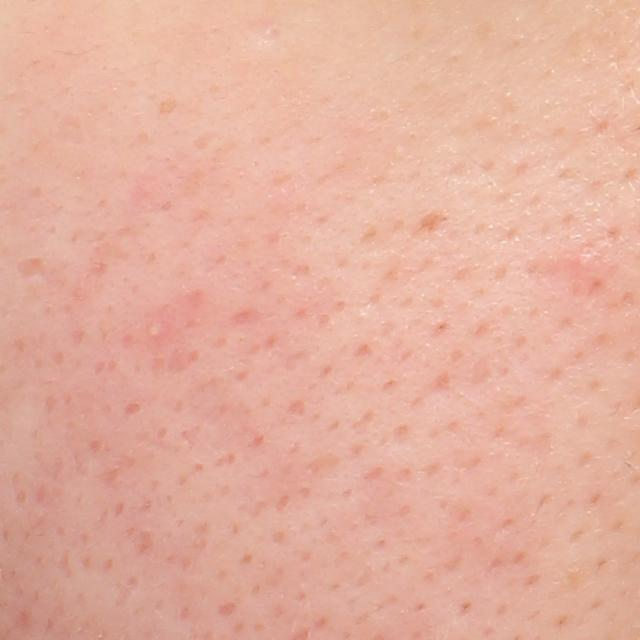atrophic_scar: (407, 204, 458, 239), (2, 253, 56, 280)
pustule: (143, 320, 167, 345)
